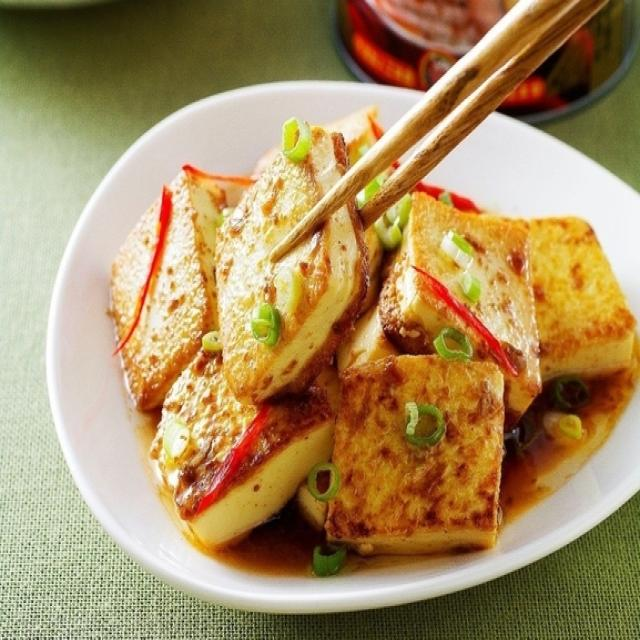豆腐料理: (21, 28, 633, 624)
